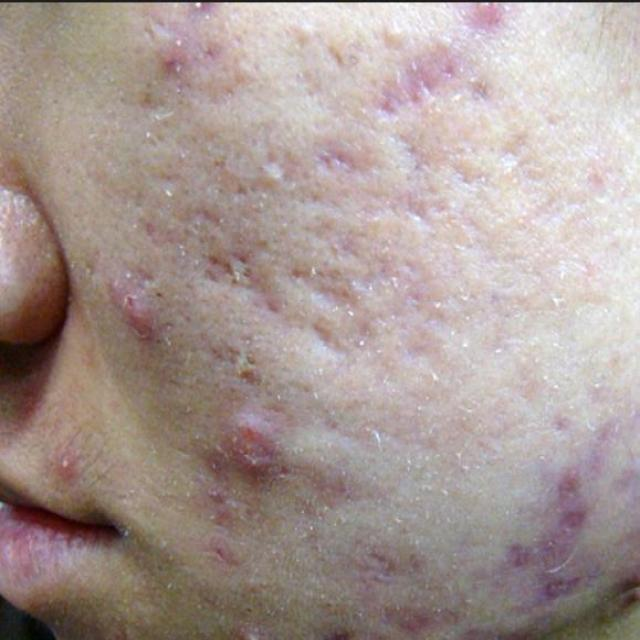9: (40, 444, 92, 500)
blackheads: (523, 468, 593, 634), (206, 398, 296, 498), (291, 268, 358, 316), (120, 286, 162, 362), (202, 260, 269, 305), (312, 148, 373, 195), (172, 198, 229, 244), (375, 97, 440, 133), (405, 196, 452, 235)
